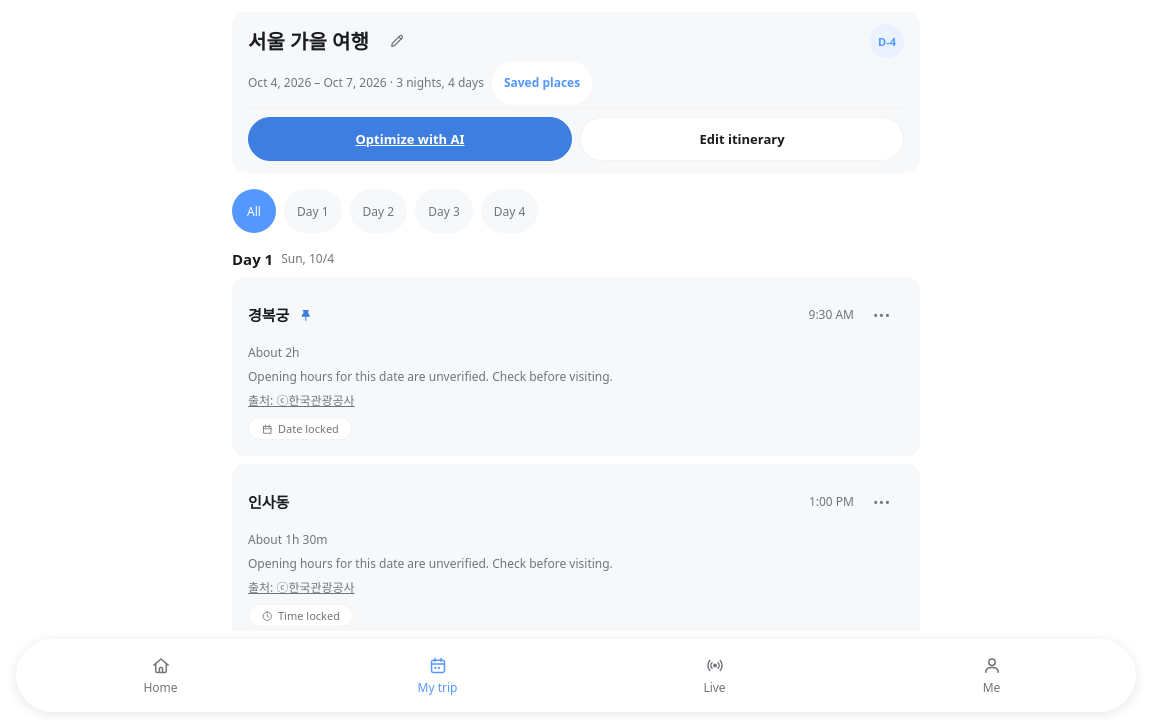
Scenario: FE-305-T2 the five relation states each say their own thing › does not present CHECKING as "nothing to swap in"
This screenshot has width=1152, height=720.
Click the button "•••" next to "9:30 AM" at (882, 315), box top-left (860, 293), bottom-right (904, 337)
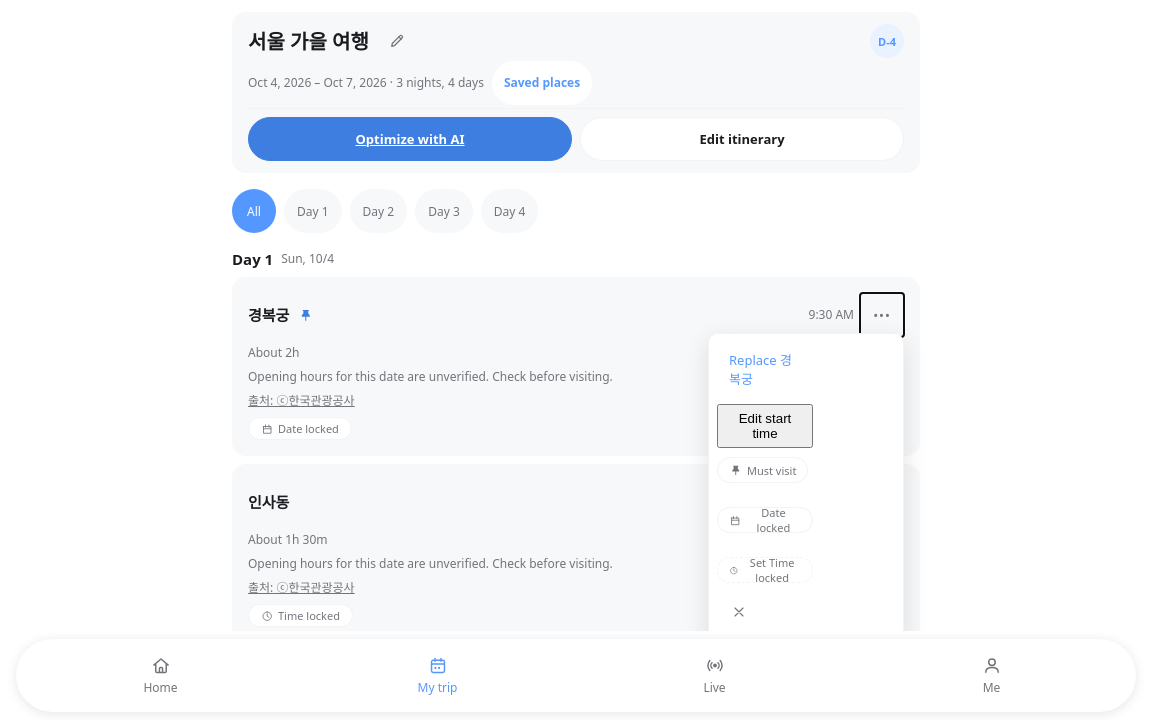
Click the button "Replace 경복궁" at (765, 369), box top-left (717, 342), bottom-right (813, 396)
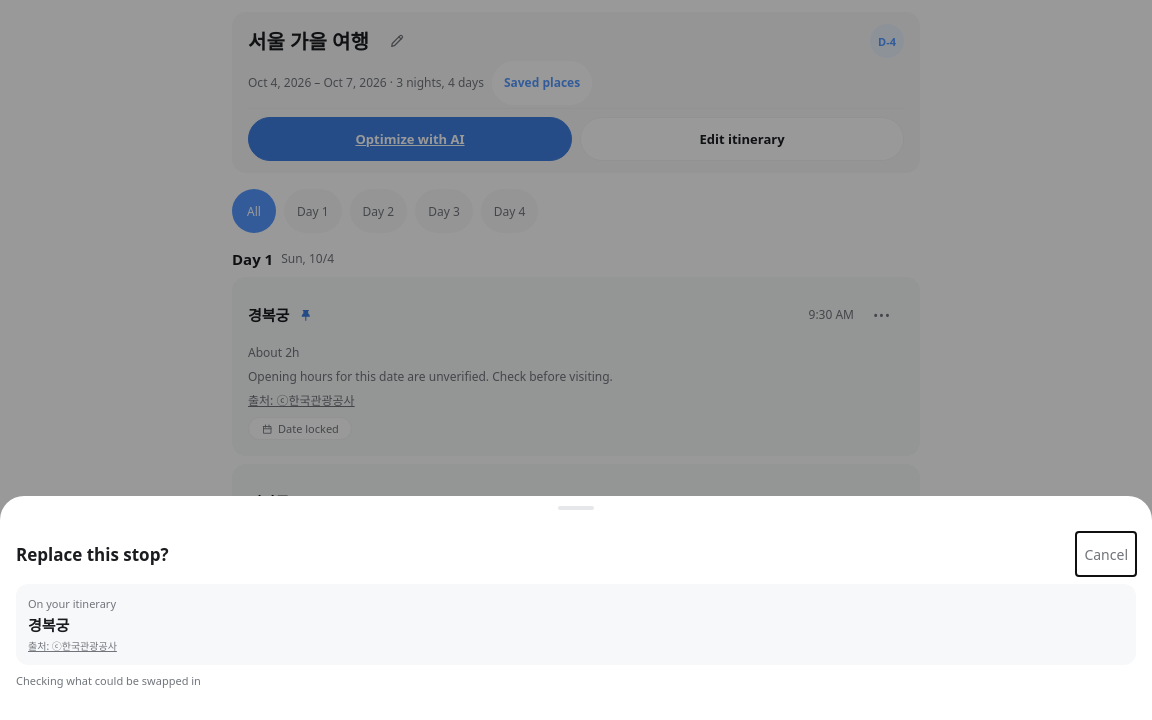
Check: the text "Checking what could be swapped in" is shown, box top-left (16, 673), bottom-right (201, 688)
